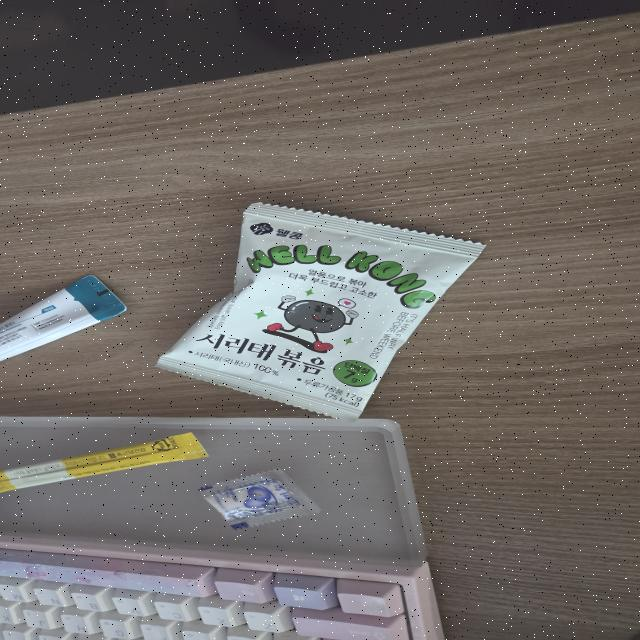lacto: (0, 430, 209, 493)
lib: (0, 273, 127, 364)
salt: (198, 466, 324, 534)
